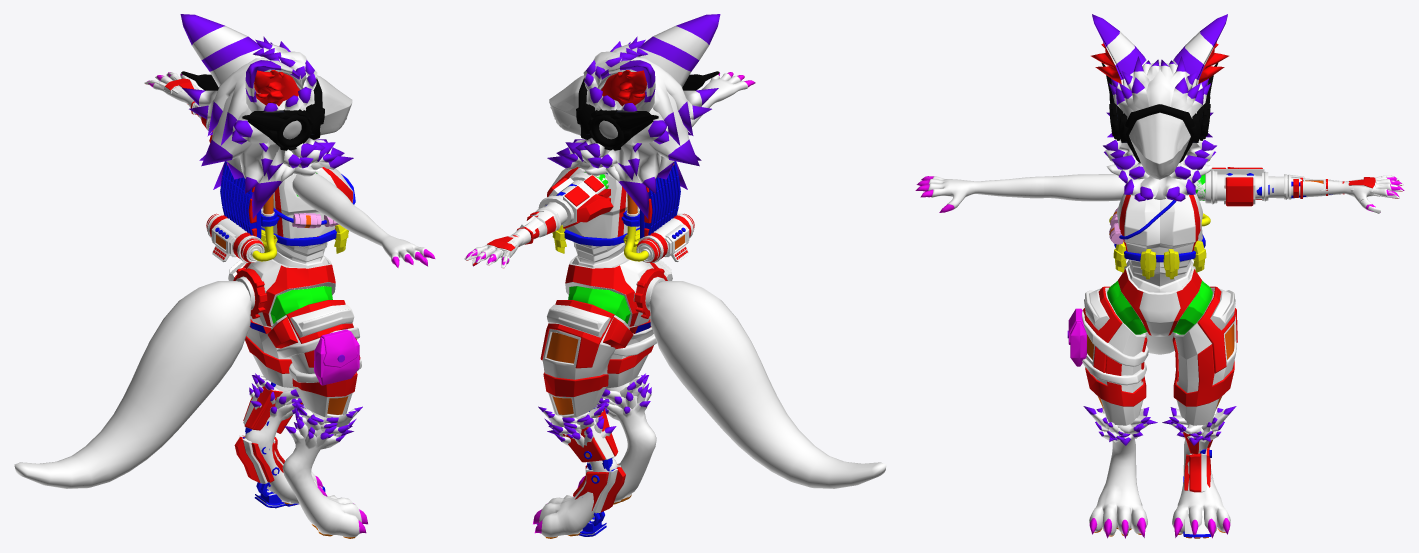
The model's file is RavenSubstance.fbx.
The picture shows the model from 3 angles, left to right: view 1: azimuth 30°, elevation 25°; view 2: azimuth 150°, elevation 25°; view 3: azimuth 270°, elevation 25°; orthographic projection. The views are drawn at different scales.
Visible parts, largest first — view 1: Tail_mesh, Head_Mesh, Ear_M_1, Right_lowerleg_mesh, Raven's_Thigh_Right, Raven's_Backpack, R_Arm_Mesh.001, Raven's_Hips, Raven's_Chest, Right_lowerleg_fur_mesh, Raven's_Prostethic_Left, H_C_M_1 (+8 smaller); view 2: Tail_mesh, Head_Mesh, Raven's_Thigh_Left, Ear_M_1, Right_lowerleg_mesh, Raven's_Backpack, Raven_Prosthetic_Arm_Left, Raven's_Hips, Raven's_Prostethic_Left, Right_lowerleg_fur_mesh, Raven's_Chest, H_C_M_1 (+6 smaller); view 3: Head_Mesh, R_Arm_Mesh.001, Raven's_Thigh_Left, Raven's_Chest, Right_lowerleg_mesh, Raven's_Thigh_Right, Raven's_Hips, Ear_M_1, Raven_Prosthetic_Arm_Left, Raven's_Visor, Right_lowerleg_fur_mesh, H_C_M_1 (+4 smaller).
Boxes of the visible parts, bbox=[...] form: Tail_mesh: bbox=[14, 281, 251, 488]; Head_Mesh: bbox=[182, 36, 353, 218]; Ear_M_1: bbox=[180, 14, 303, 112]; Right_lowerleg_mesh: bbox=[244, 379, 367, 537]; Raven's_Thigh_Right: bbox=[267, 300, 360, 417]; Raven's_Backpack: bbox=[206, 161, 279, 262]; R_Arm_Mesh.001: bbox=[147, 72, 435, 267]; Raven's_Hips: bbox=[243, 256, 335, 327]; Raven's_Chest: bbox=[260, 167, 353, 253]; Right_lowerleg_fur_mesh: bbox=[249, 373, 362, 450]; Raven's_Prostethic_Left: bbox=[234, 382, 325, 508]; H_C_M_1: bbox=[181, 71, 324, 150]; Tail_mesh: bbox=[649, 281, 886, 488]; Head_Mesh: bbox=[547, 36, 718, 218]; Raven's_Thigh_Left: bbox=[540, 300, 633, 417]; Ear_M_1: bbox=[597, 14, 720, 112]; Right_lowerleg_mesh: bbox=[533, 379, 656, 537]; Raven's_Backpack: bbox=[621, 161, 694, 262]; Raven_Prosthetic_Arm_Left: bbox=[464, 172, 613, 268]; Raven's_Hips: bbox=[565, 256, 657, 327]; Raven's_Prostethic_Left: bbox=[536, 408, 625, 536]; Right_lowerleg_fur_mesh: bbox=[538, 373, 651, 447]; Raven's_Chest: bbox=[548, 167, 640, 253]; H_C_M_1: bbox=[576, 71, 719, 150]; Head_Mesh: bbox=[1103, 56, 1216, 201]; R_Arm_Mesh.001: bbox=[915, 174, 1404, 212]; Raven's_Thigh_Left: bbox=[1172, 286, 1237, 425]; Raven's_Chest: bbox=[1113, 193, 1206, 279]; Right_lowerleg_mesh: bbox=[1089, 438, 1230, 538]; Raven's_Thigh_Right: bbox=[1083, 286, 1147, 425]; Raven's_Hips: bbox=[1107, 265, 1212, 336]; Ear_M_1: bbox=[1091, 14, 1228, 87]; Raven_Prosthetic_Arm_Left: bbox=[1195, 167, 1402, 213]; Raven's_Visor: bbox=[1129, 112, 1190, 179]; Right_lowerleg_fur_mesh: bbox=[1083, 406, 1236, 445]; H_C_M_1: bbox=[1101, 63, 1217, 162].
Bounding box in the file's own units: 107 × 141 × 151.
